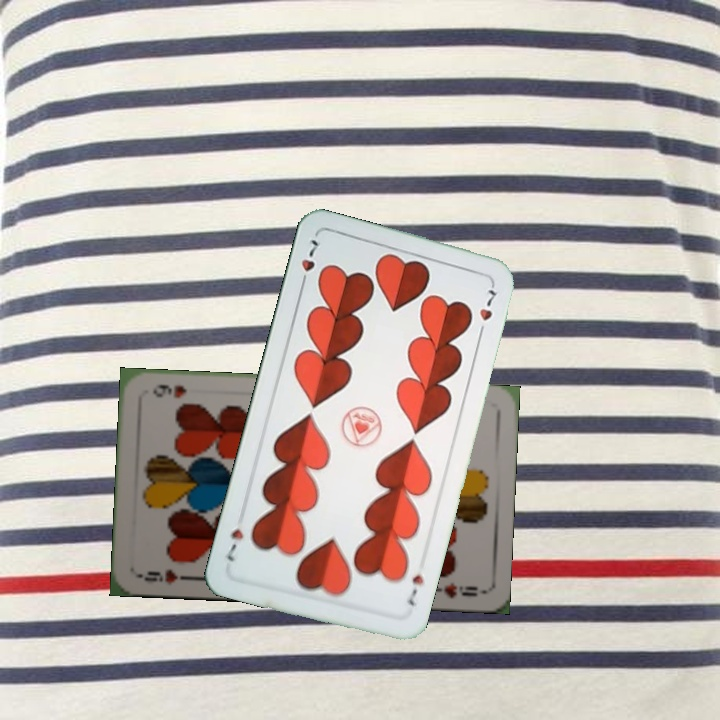H7: (296, 235, 322, 291), (402, 570, 426, 609)
H9: (135, 565, 194, 588)
